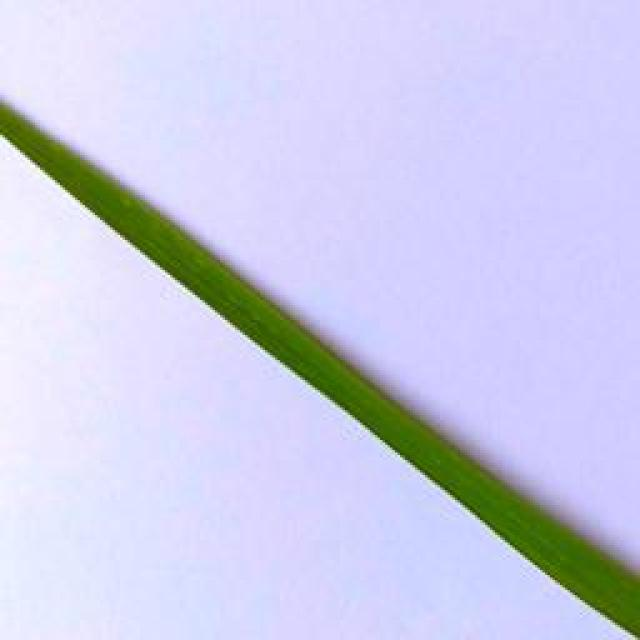Healthy: (0, 100, 640, 640)
